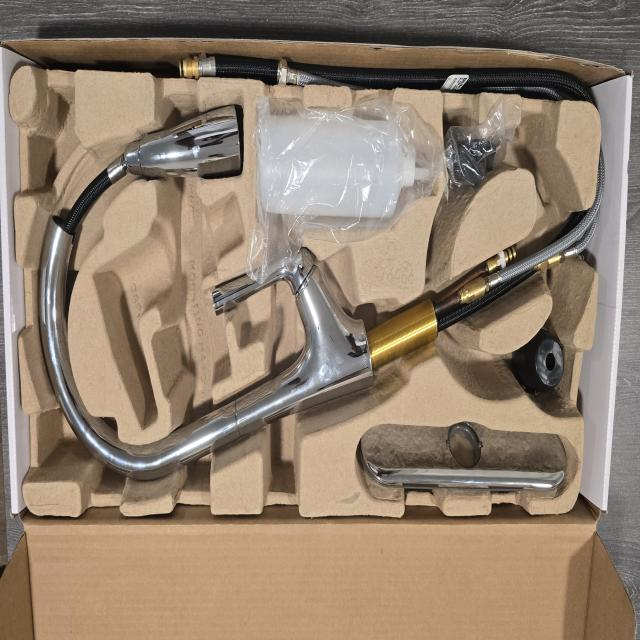1: (36, 103, 598, 482)
2m: (92, 192, 244, 431)
3: (259, 115, 433, 223)
4: (360, 421, 566, 491)
5: (511, 328, 565, 392)
6m: (520, 97, 578, 207)
7: (444, 94, 506, 198)
